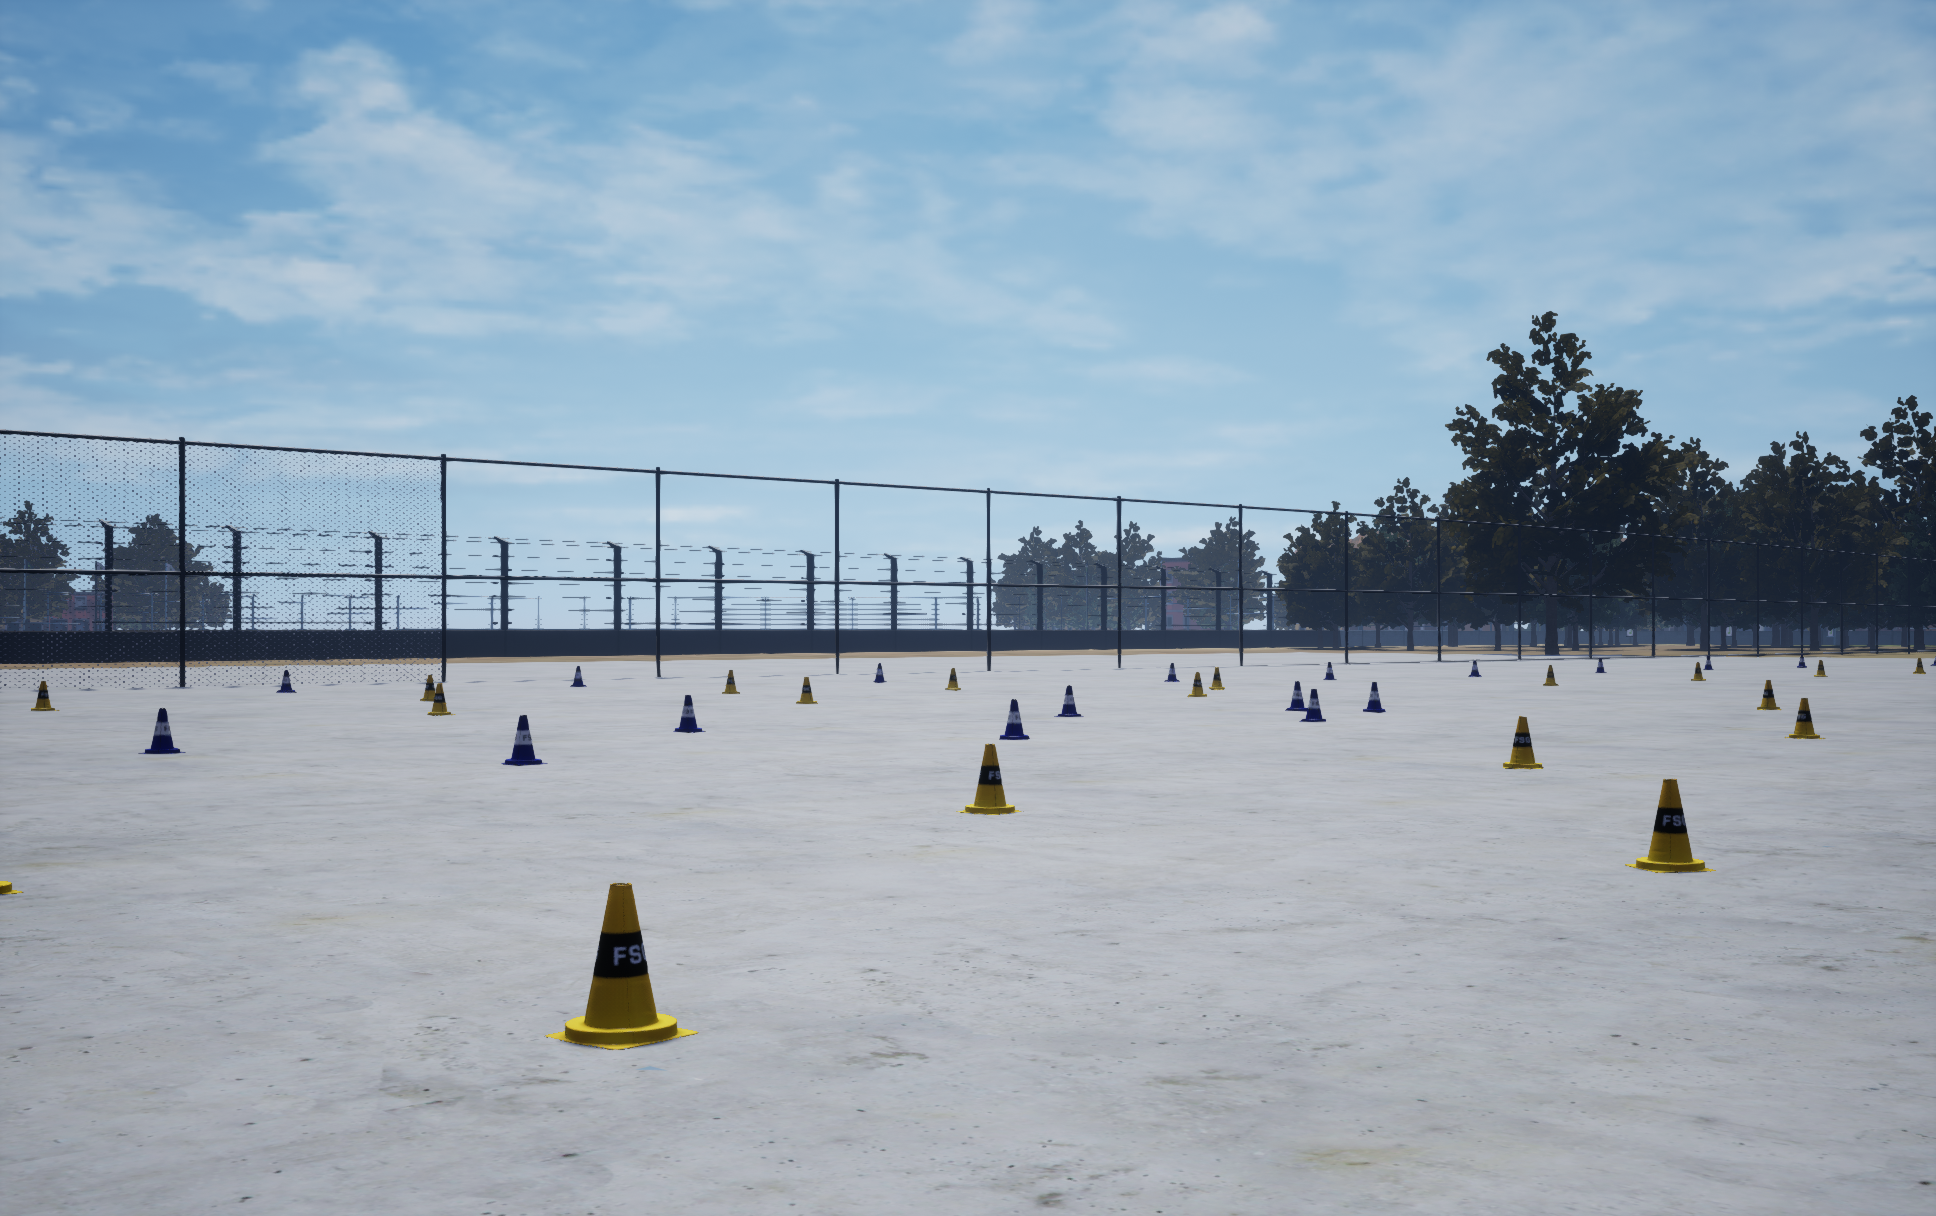blue: (544, 883, 698, 1049), (1625, 779, 1715, 871), (955, 744, 1023, 814), (1503, 716, 1542, 768), (1783, 698, 1825, 738), (427, 684, 455, 714), (31, 681, 59, 710), (1757, 679, 1781, 709), (796, 677, 817, 703), (1187, 672, 1206, 696), (721, 670, 740, 693), (420, 675, 434, 700), (1209, 667, 1224, 689), (946, 668, 960, 691), (1542, 665, 1558, 685), (0, 881, 22, 894)
yellow: (502, 714, 546, 765), (139, 707, 185, 754), (999, 699, 1030, 740), (672, 695, 705, 733), (1053, 685, 1083, 716), (1299, 689, 1325, 721), (1363, 682, 1385, 712), (1285, 681, 1307, 710), (276, 670, 296, 692), (570, 665, 586, 686), (1164, 663, 1180, 681), (873, 663, 885, 682), (1322, 663, 1336, 679)
